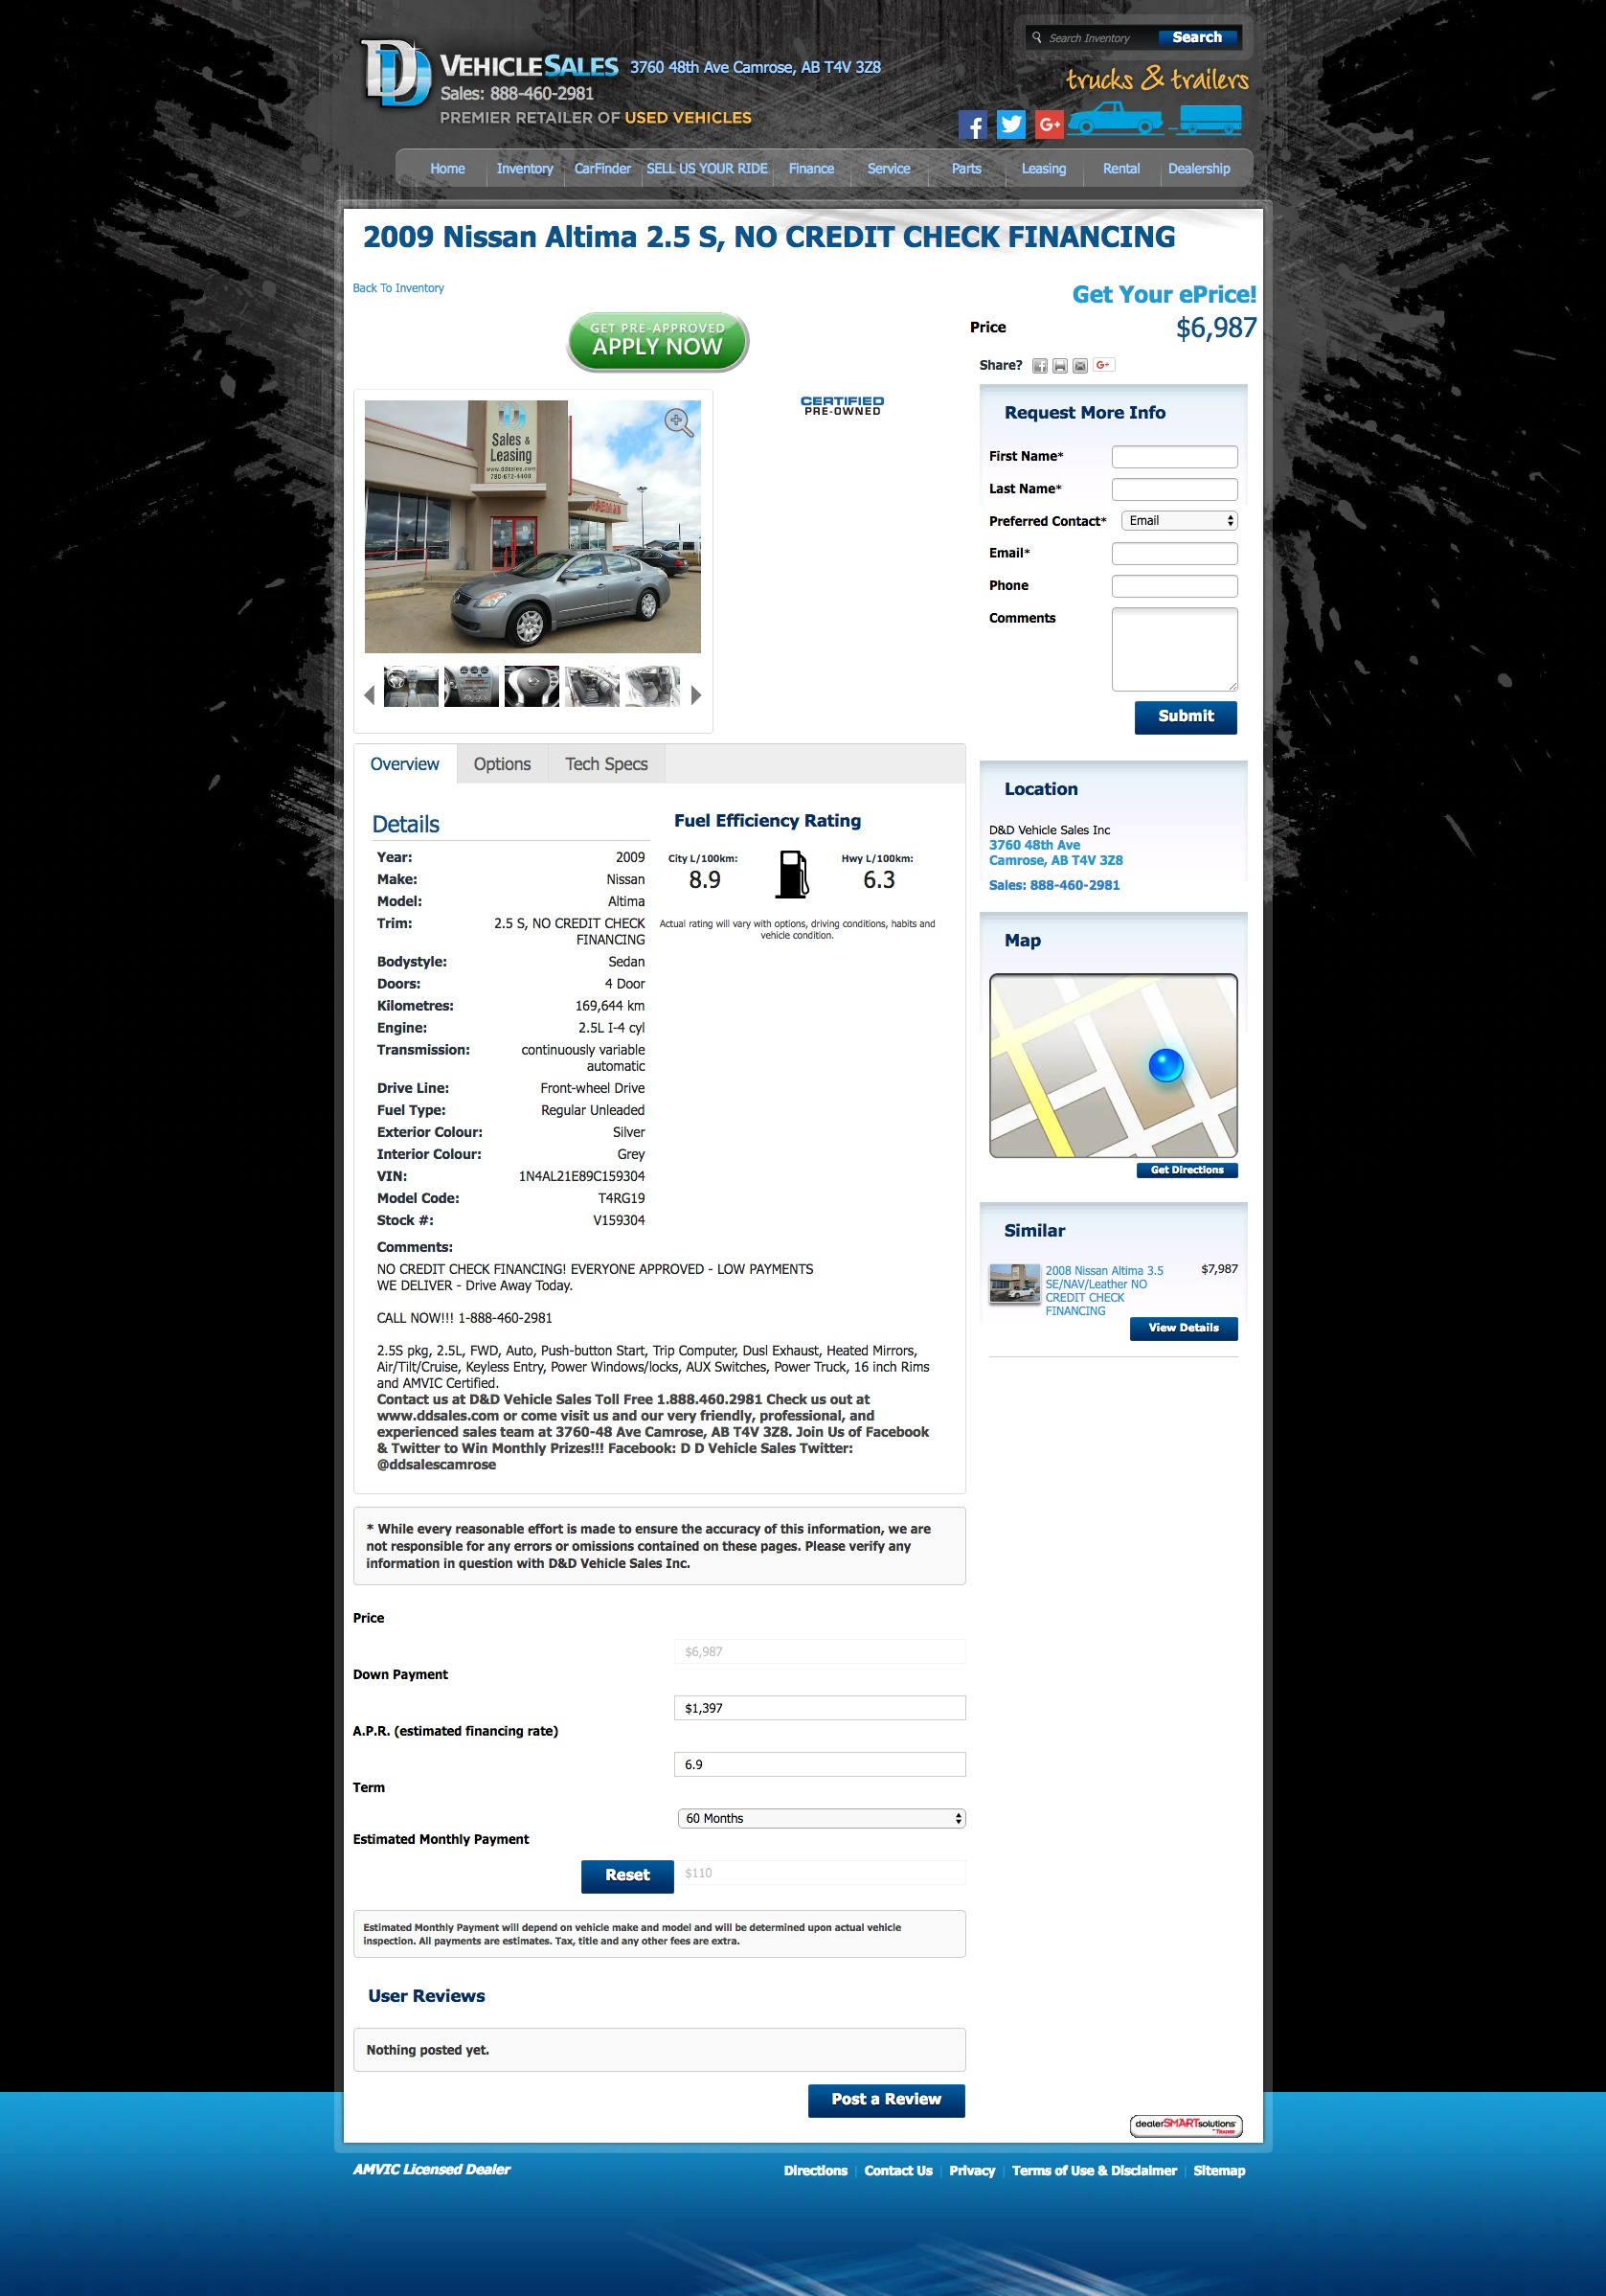car: (692, 686, 703, 708)
